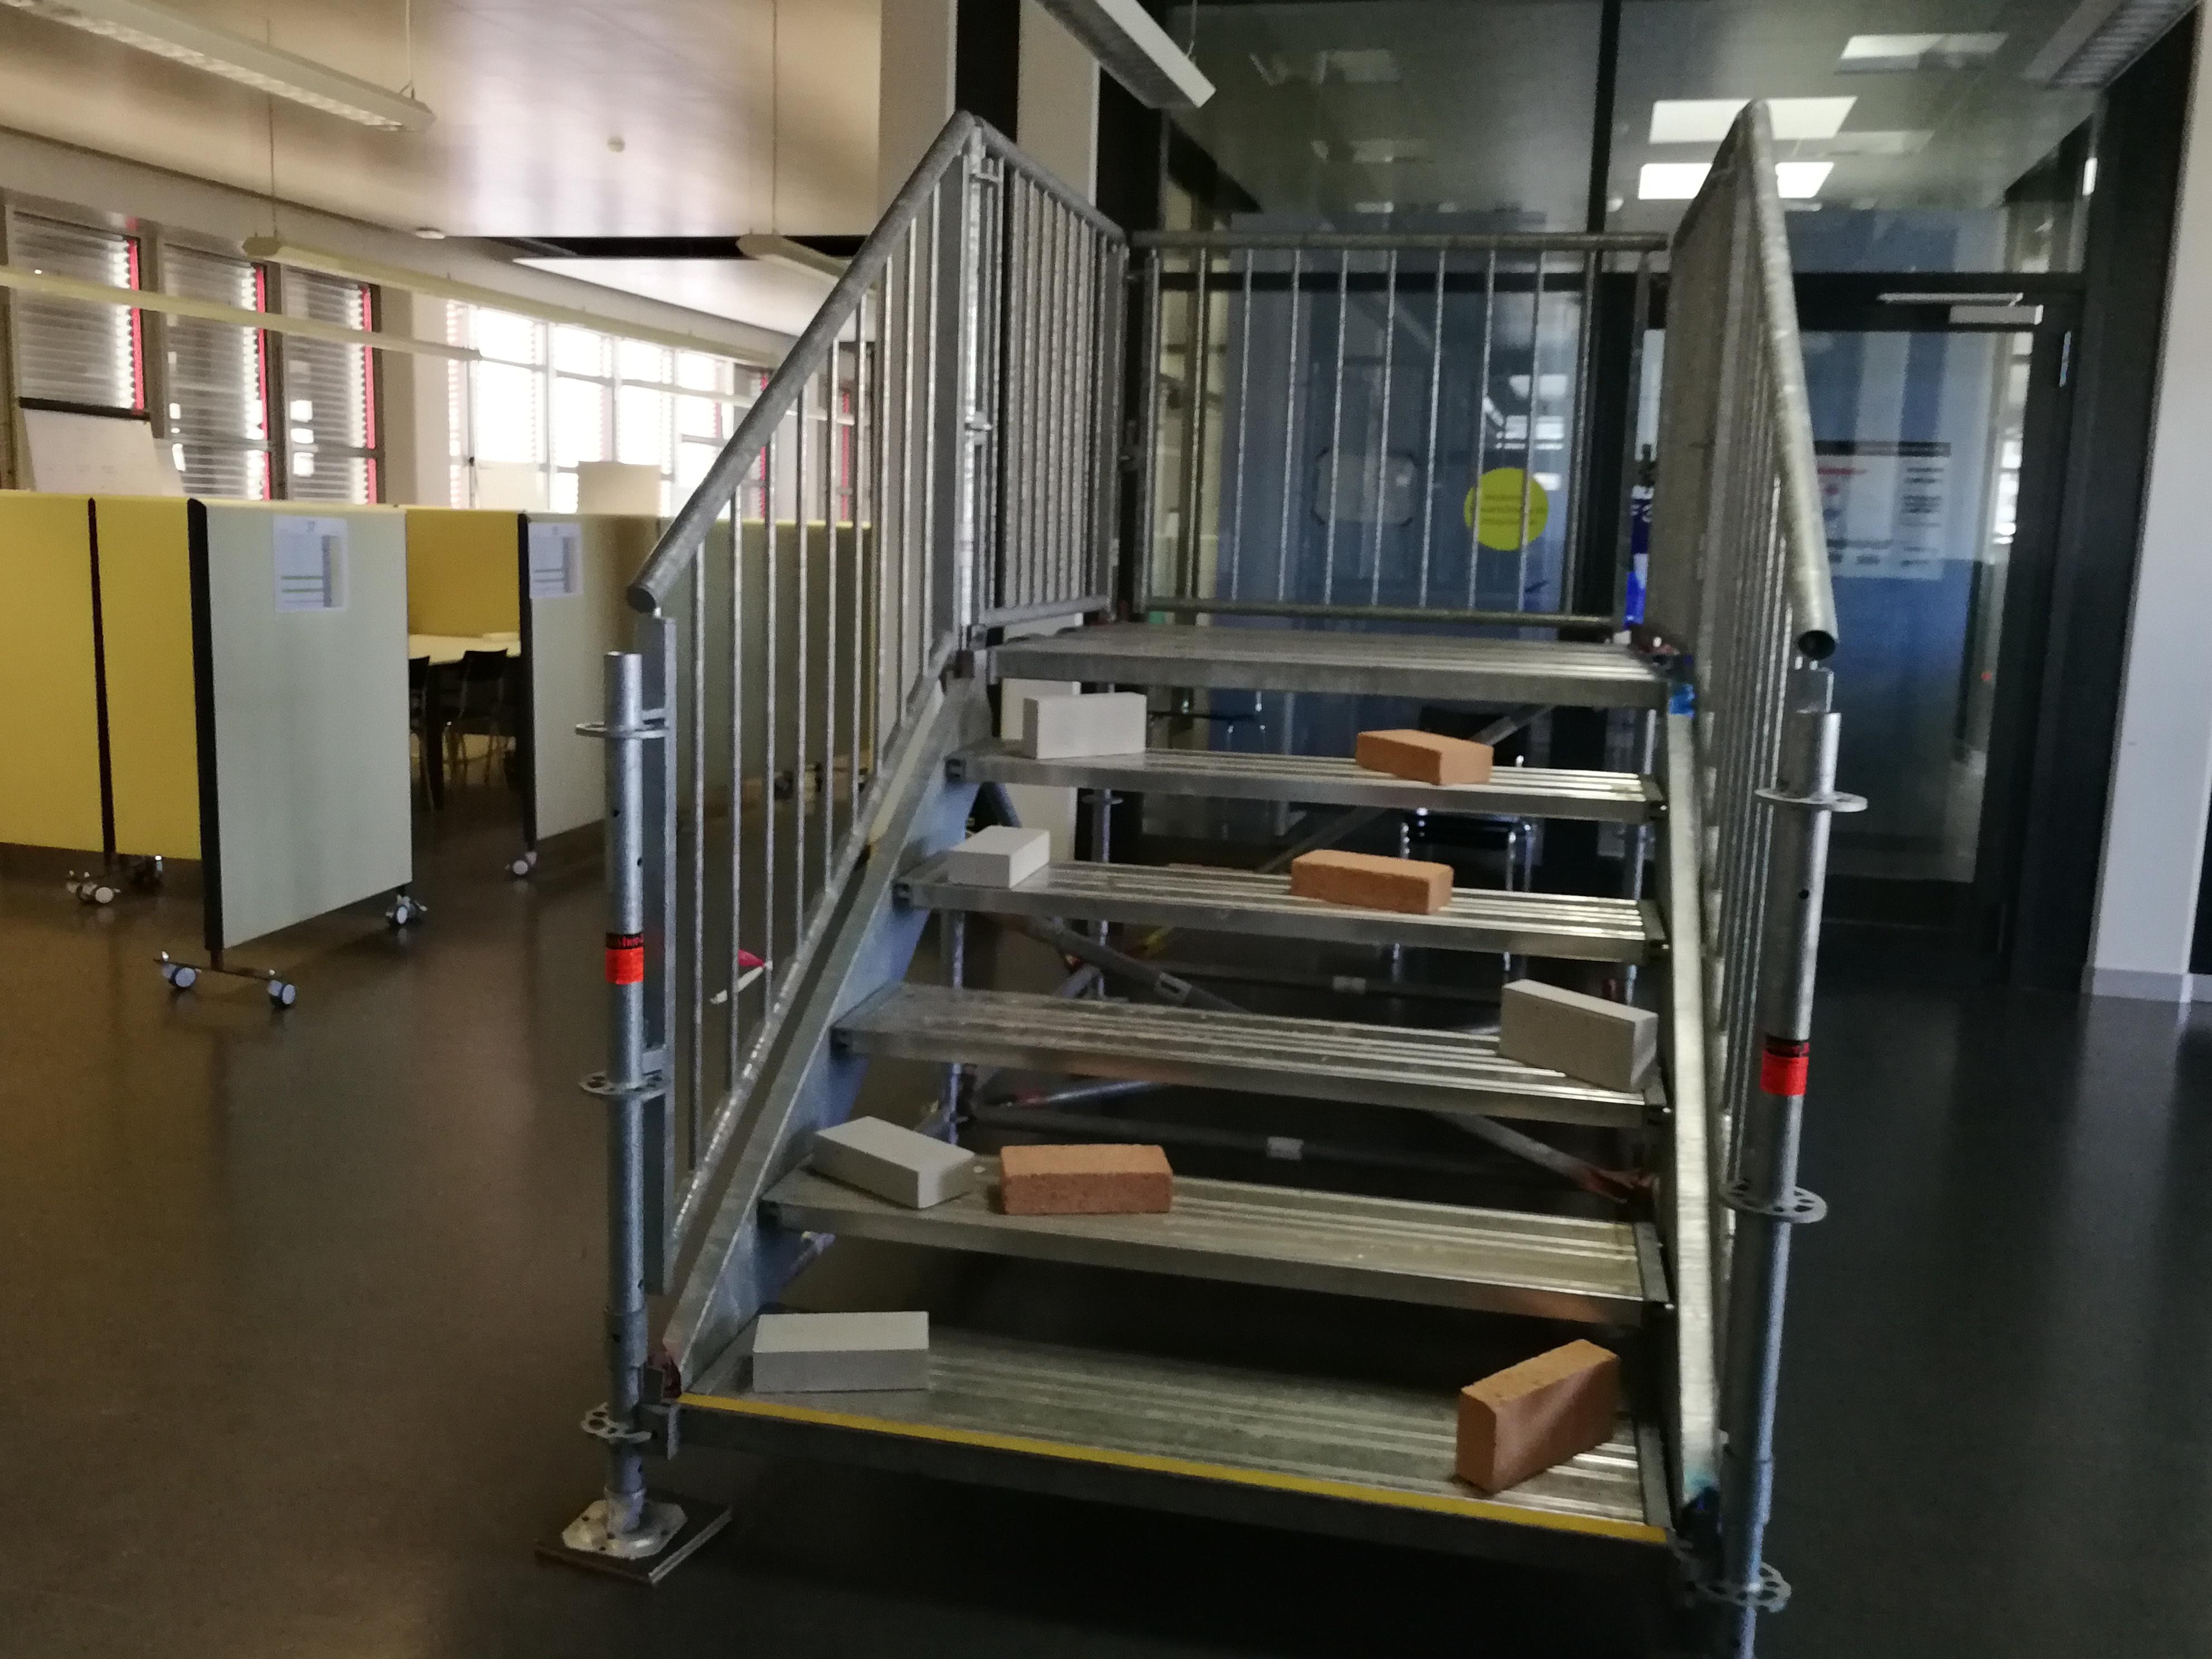brick: (1463, 1338, 1620, 1492), (1503, 978, 1658, 1086), (813, 1121, 977, 1209), (754, 1314, 927, 1394), (998, 1143, 1172, 1213), (1289, 849, 1449, 915), (1357, 725, 1491, 784), (1026, 694, 1144, 755), (949, 824, 1049, 885)
edge: (681, 1405, 1672, 1593), (756, 1192, 1672, 1340), (827, 1018, 1669, 1141), (895, 878, 1670, 969), (948, 749, 1667, 824), (991, 643, 1662, 709)
stairs: (535, 105, 1862, 1654)
steps: (651, 626, 1688, 1612)
